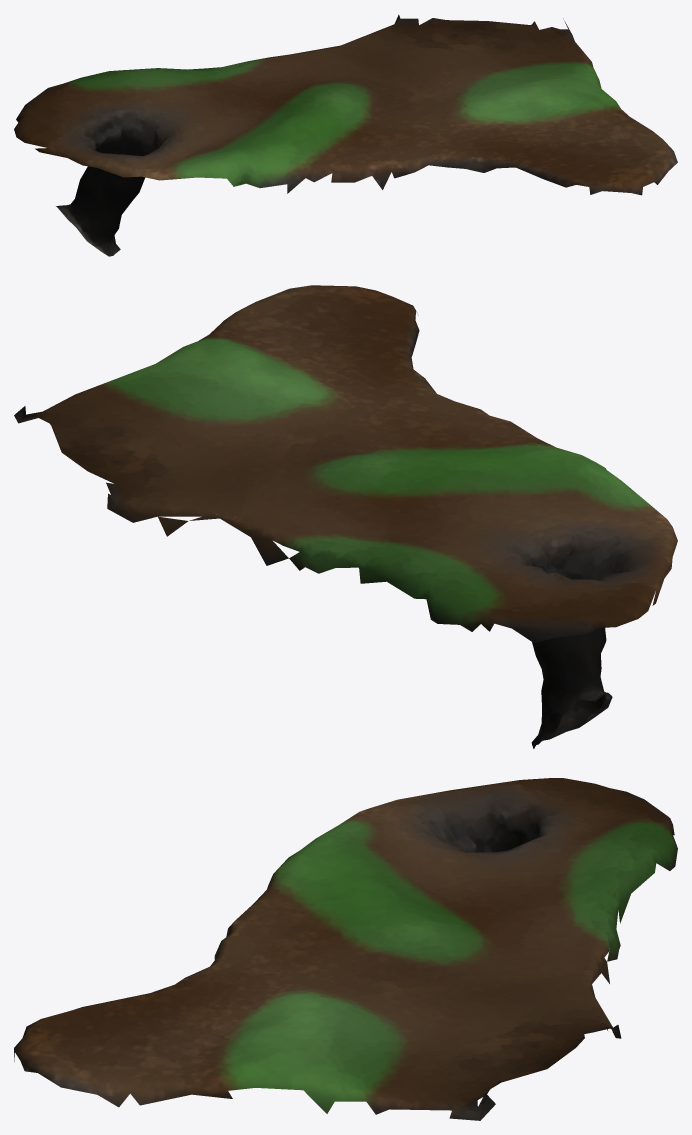
File: platform3collider1.fbx
The picture shows the model from 3 angles, top to bottom: view 1: azimuth 30°, elevation 25°; view 2: azimuth 150°, elevation 25°; view 3: azimuth 270°, elevation 25°; orthographic projection. The views are drawn at different scales.
Visible parts, largest first — view 1: platform3collider1; view 2: platform3collider1; view 3: platform3collider1.
Boxes of the visible parts, x1,y1,x2,y2 form: platform3collider1: [14, 14, 677, 256]; platform3collider1: [14, 285, 677, 748]; platform3collider1: [14, 778, 677, 1120].
Bounding box in the file's own units: 9233 × 2494 × 7624.
